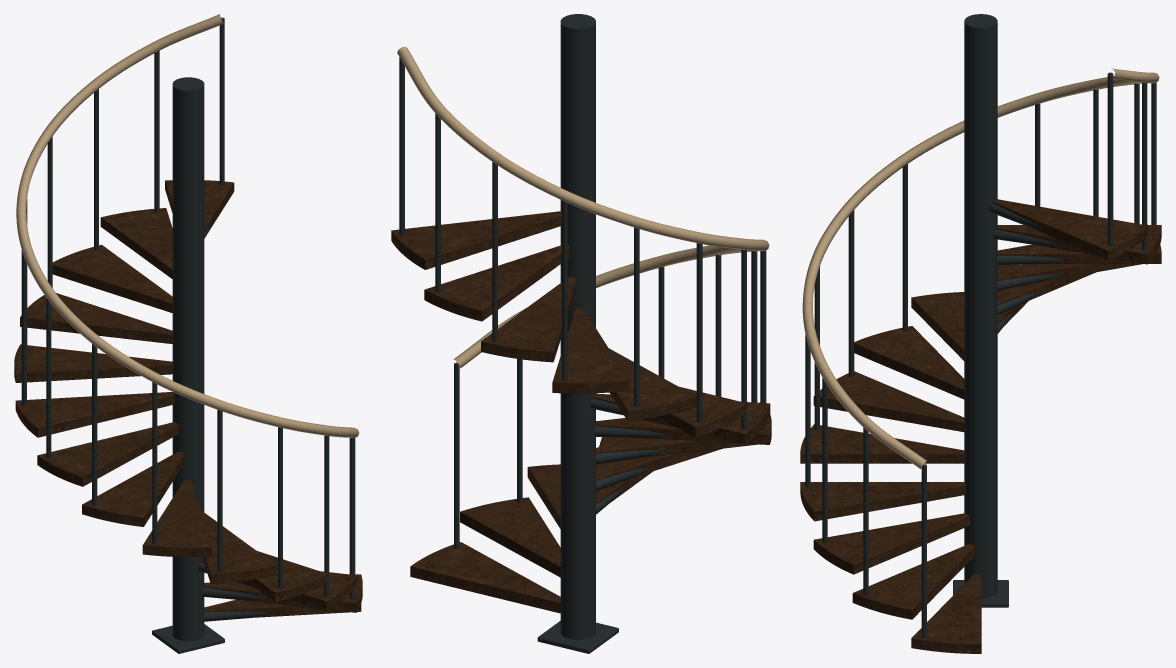
The model's file is studio-spiral-stair.glb.
3 renders of one model, left to right at view 1: azimuth 30°, elevation 25°; view 2: azimuth 150°, elevation 25°; view 3: azimuth 270°, elevation 25°, orthographic. The views are drawn at different scales.
Visible parts, largest first — view 1: wood_surfaces, dark_surfaces, bronze_surfaces; view 2: wood_surfaces, dark_surfaces, bronze_surfaces; view 3: wood_surfaces, dark_surfaces, bronze_surfaces.
Part boxes in pixels (bbox=[...]): wood_surfaces: bbox=[14, 180, 362, 618]; dark_surfaces: bbox=[21, 17, 355, 653]; bronze_surfaces: bbox=[16, 14, 359, 437]; wood_surfaces: bbox=[391, 211, 771, 613]; dark_surfaces: bbox=[399, 14, 766, 653]; bronze_surfaces: bbox=[397, 46, 769, 368]; wood_surfaces: bbox=[800, 199, 1161, 653]; dark_surfaces: bbox=[805, 14, 1156, 637]; bronze_surfaces: bbox=[802, 68, 1159, 469].
Size of the model in its own units: 1.61 by 2.82 by 1.61.
Materials: 3 (1 with a texture image).
